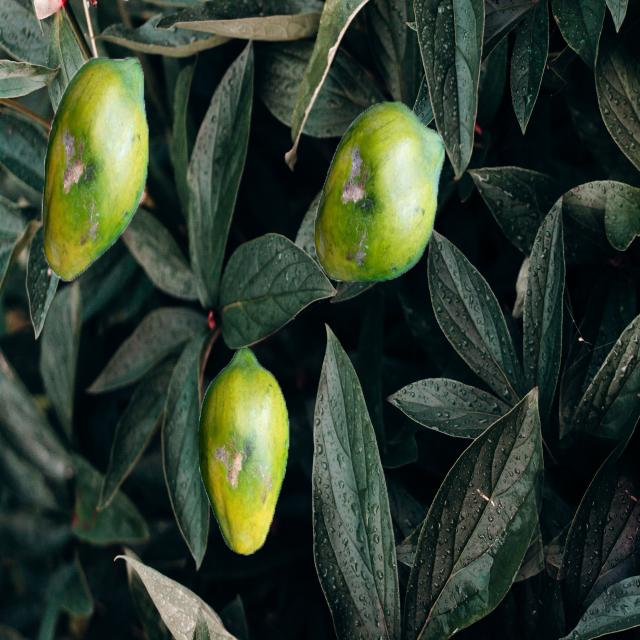Pepaya rippen: (26, 46, 167, 288), (304, 108, 459, 298), (206, 346, 289, 568)
